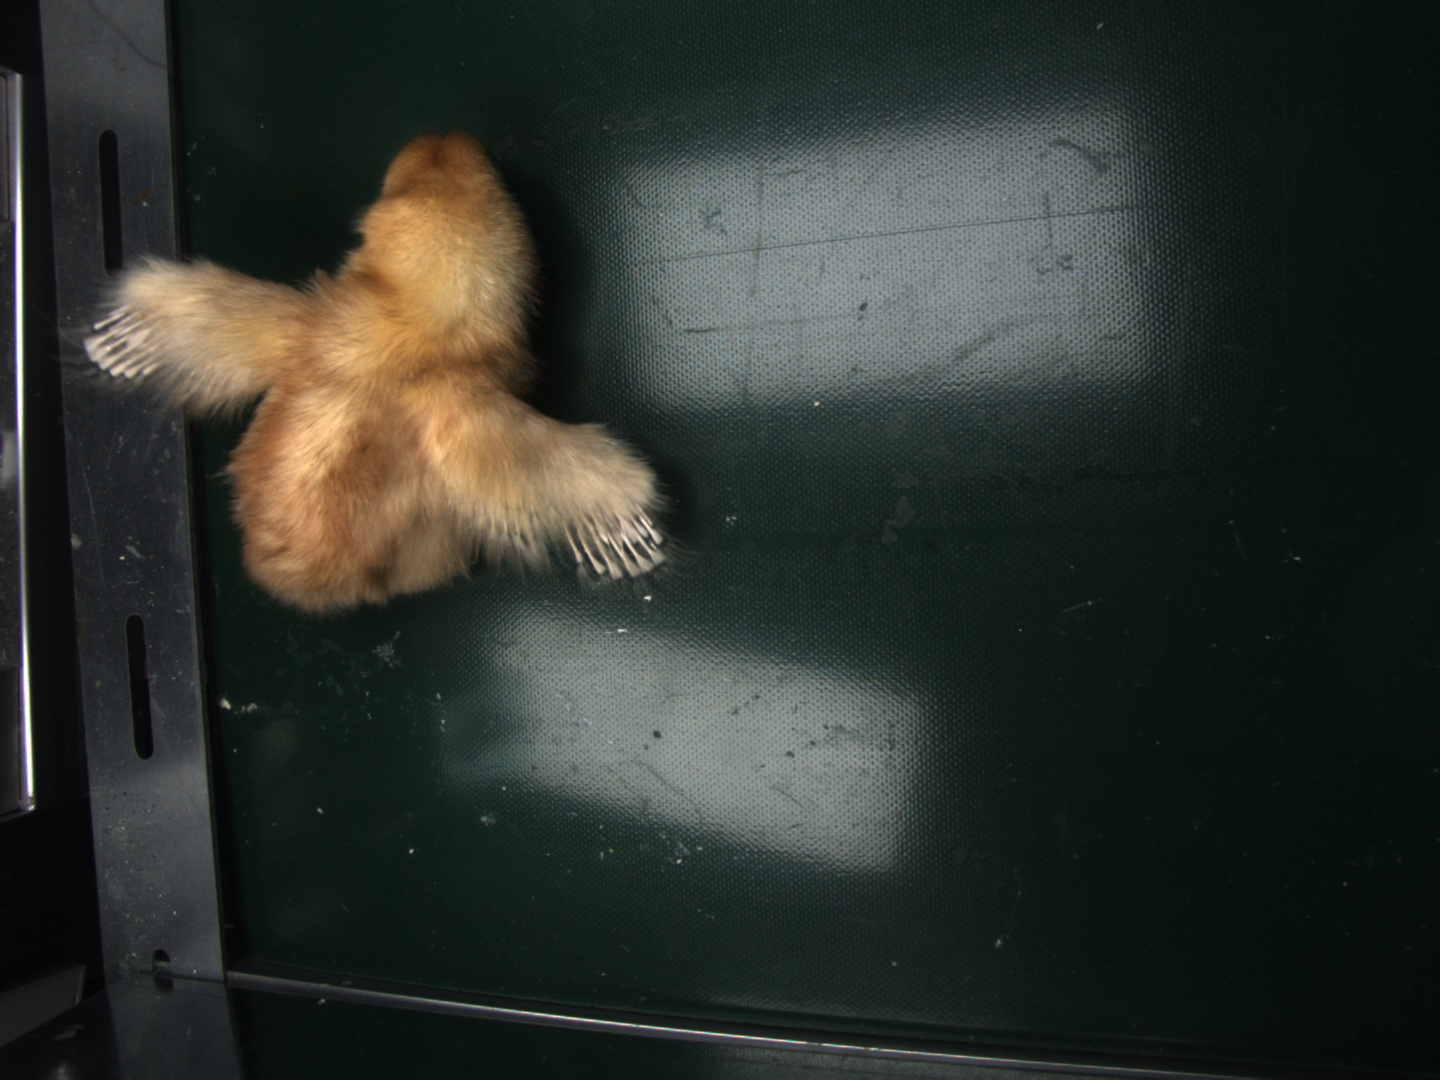female: (574, 503, 664, 575), (91, 304, 166, 376)
